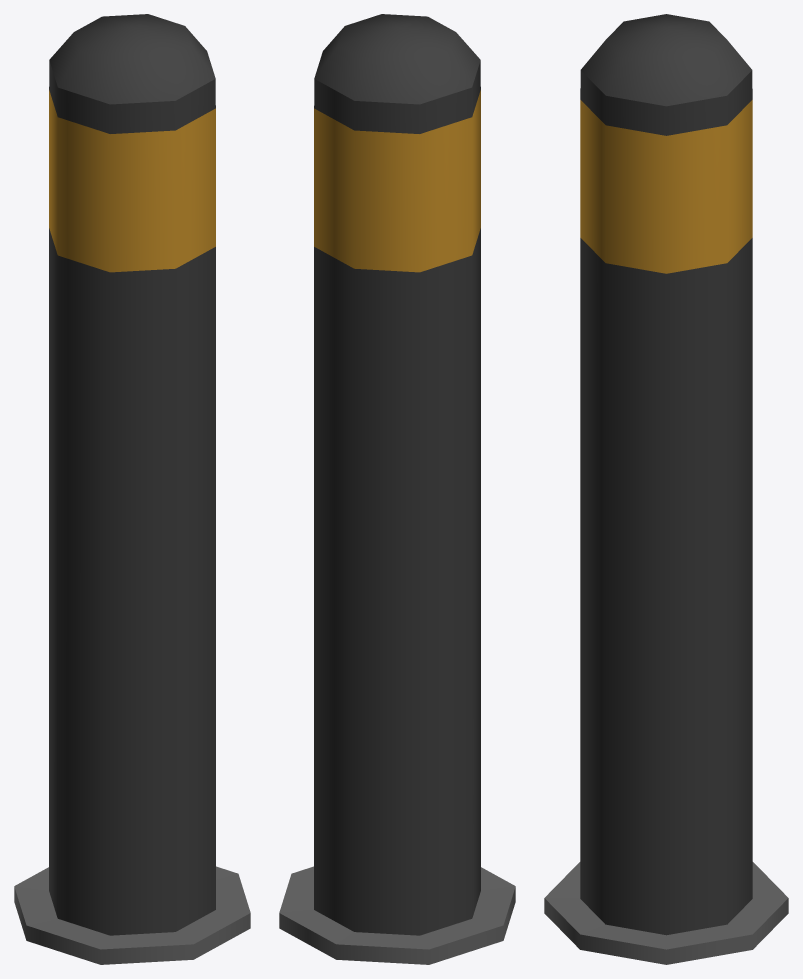
Rendered from Pole_01.FBX.
The picture shows the model from 3 angles, left to right: view 1: azimuth 30°, elevation 25°; view 2: azimuth 150°, elevation 25°; view 3: azimuth 270°, elevation 25°; orthographic projection.
Parts seen in each view (by area): view 1: Pole_01_LOD0; view 2: Pole_01_LOD0; view 3: Pole_01_LOD0.
Boxes of the visible parts, x1=… form: Pole_01_LOD0: x1=14, y1=14, x2=250, y2=964; Pole_01_LOD0: x1=279, y1=14, x2=515, y2=964; Pole_01_LOD0: x1=544, y1=14, x2=788, y2=964.
Size of what is drawn, in the model's own units: 15 by 60 by 15.
